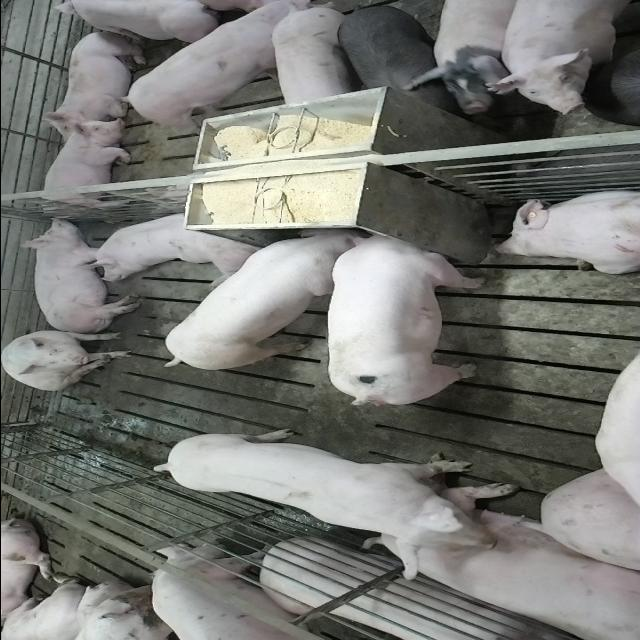Feeding: (160, 228, 364, 376), (324, 224, 486, 400)
Lateral_lying: (16, 216, 142, 334)
Sitting: (1, 328, 134, 391)
Standing: (158, 429, 491, 582), (117, 0, 307, 130), (478, 2, 640, 118), (152, 545, 347, 640), (400, 2, 530, 118), (333, 3, 437, 96), (270, 4, 352, 110)
Sternal_lying: (70, 207, 260, 279), (490, 187, 640, 275), (42, 28, 150, 132), (35, 120, 135, 215)
